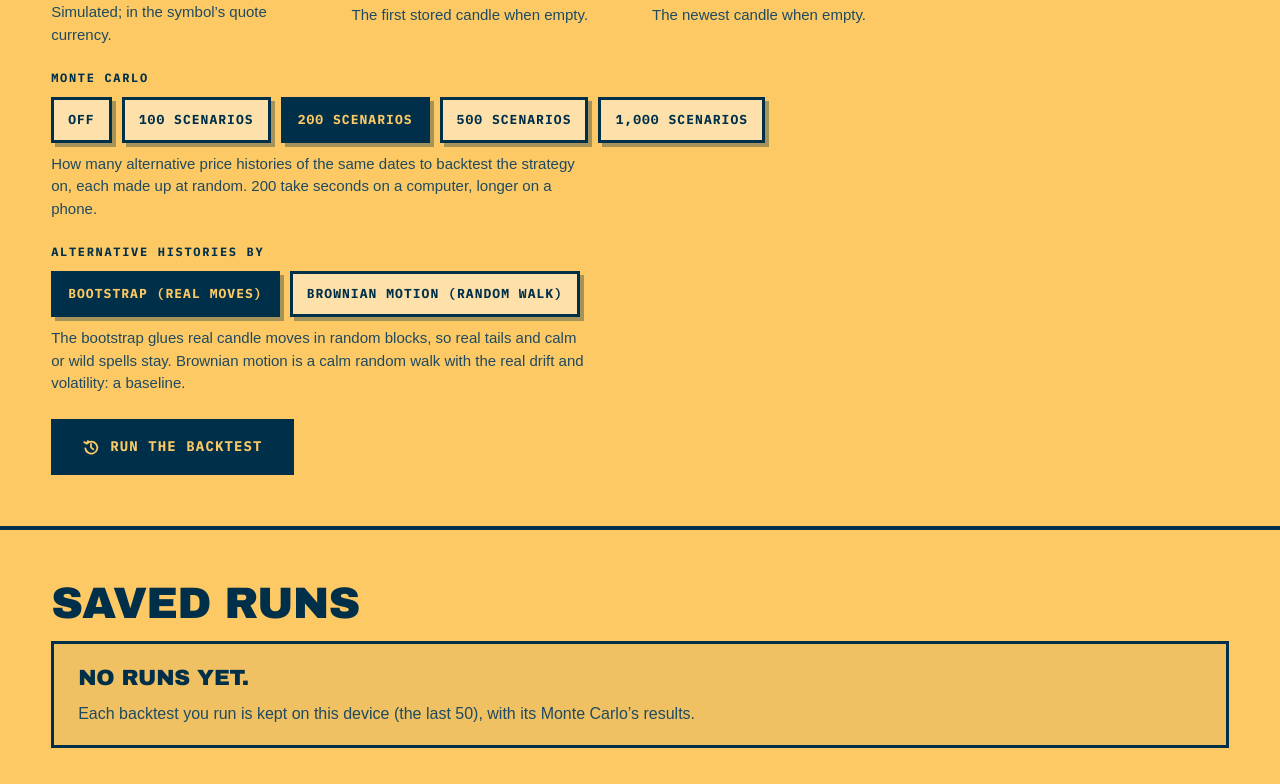
Test case: Backtest › says how many alternative pasts ended above the starting balance, and where the real history ranks, under the chart
(page scrolled)
Click the button "Run the backtest".
click(172, 447)  # box left=51, top=419, right=294, bottom=475
(page scrolled)
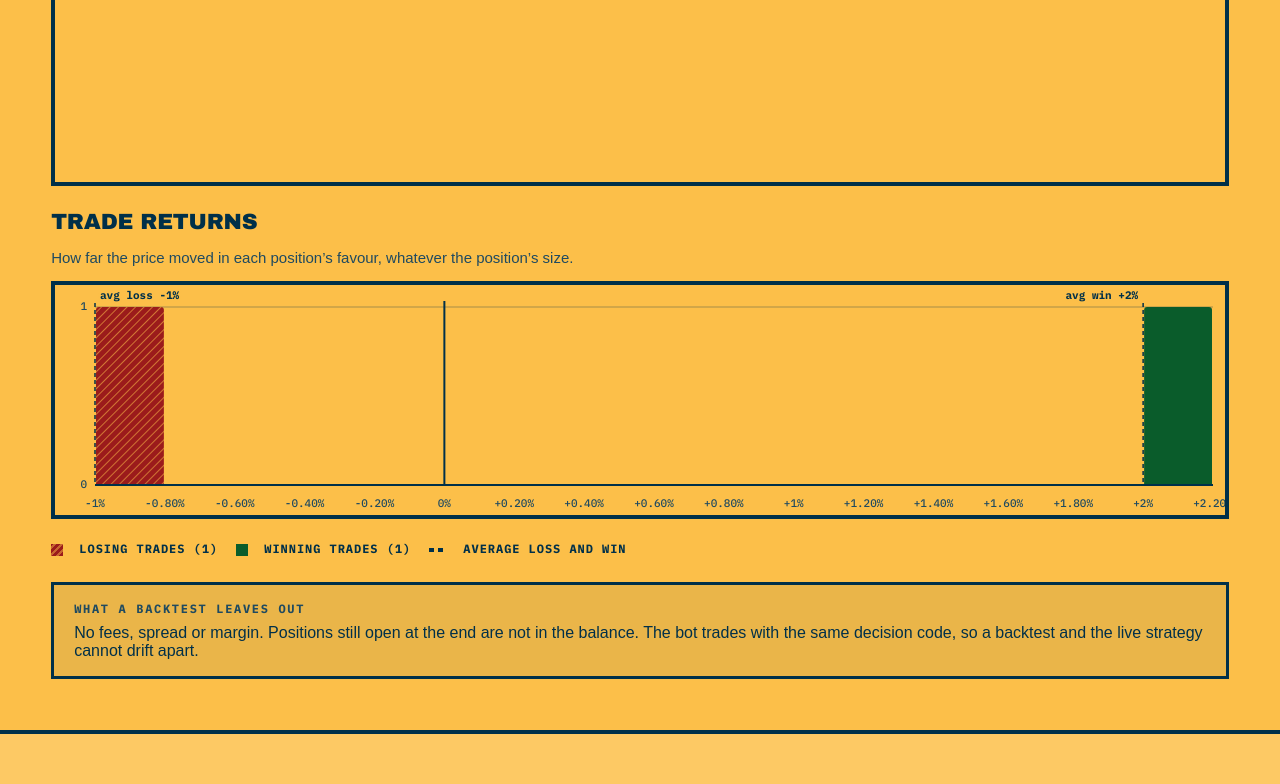
Check: the picture named "Returns of 2 trades: 1 lost, 1 won" is shown, box left=55, top=285, right=1225, bottom=515
